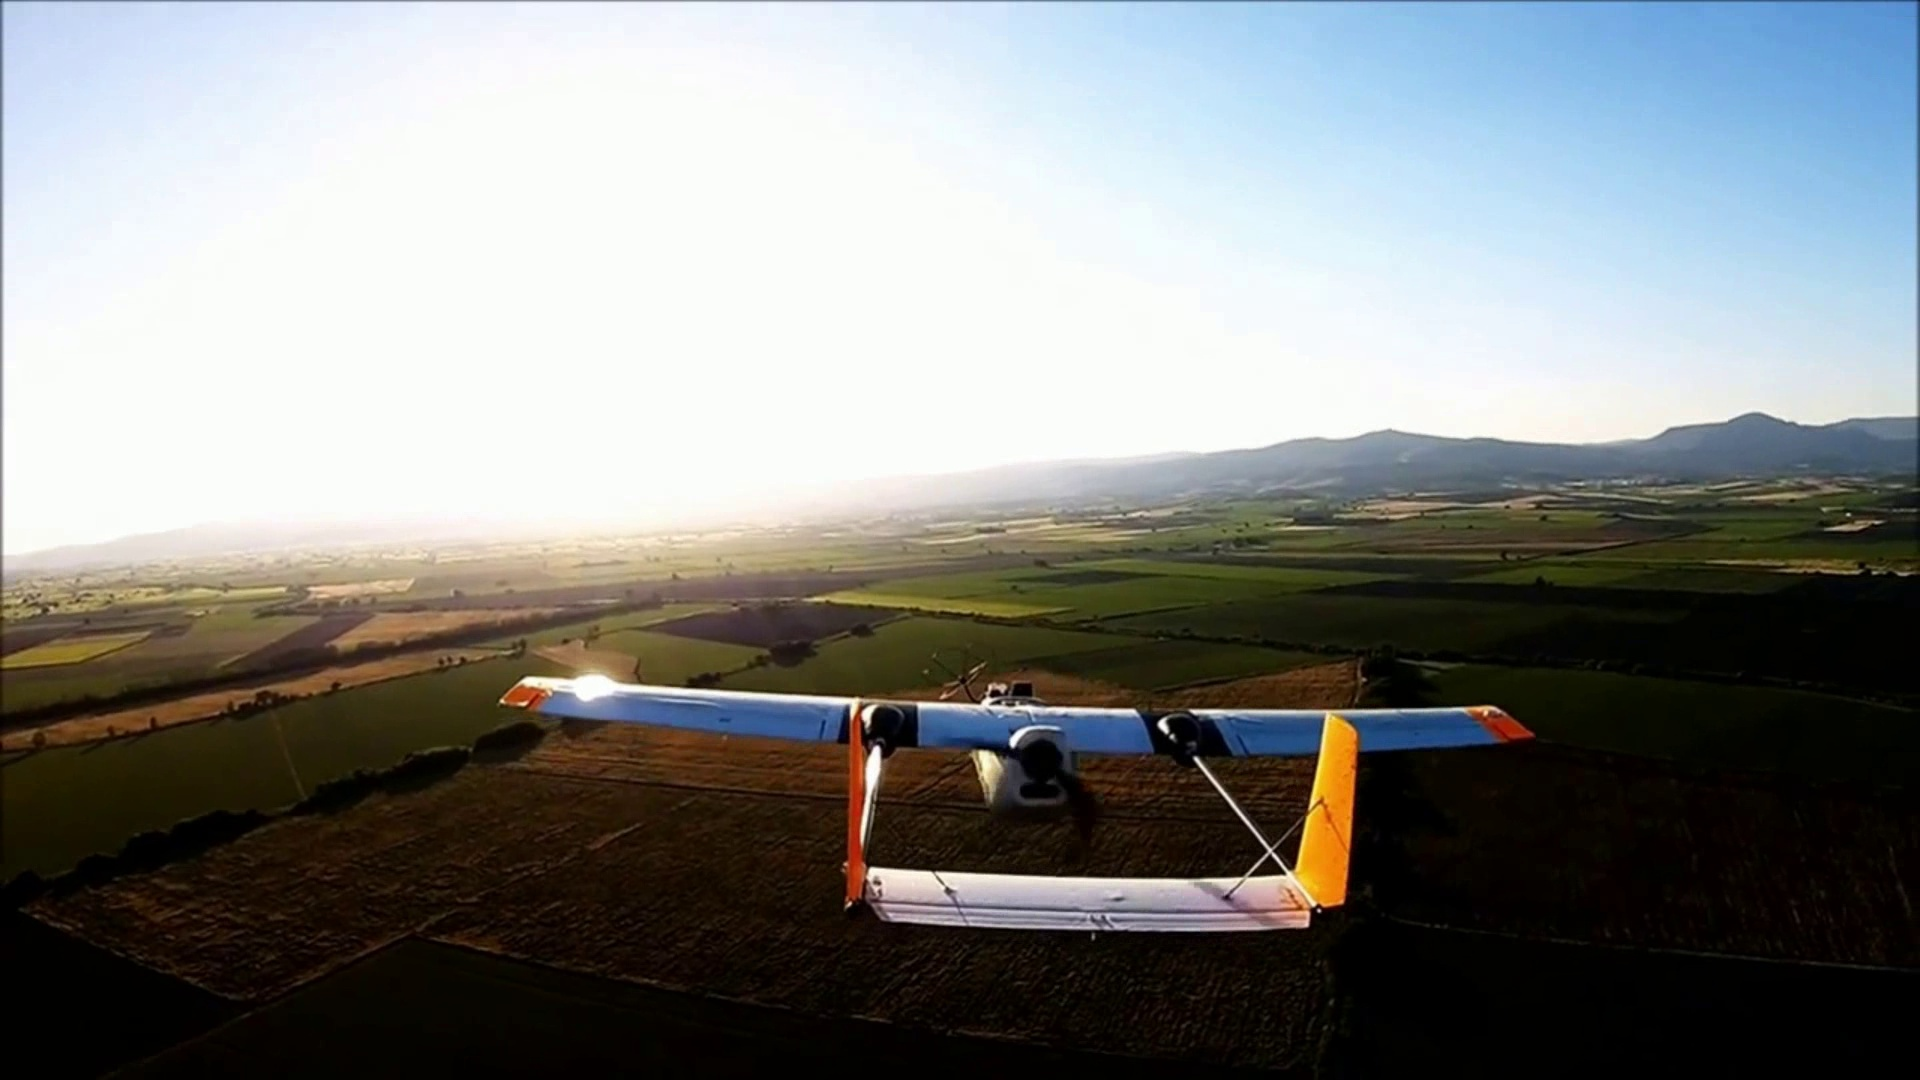airplane: (498, 669, 1536, 939)
